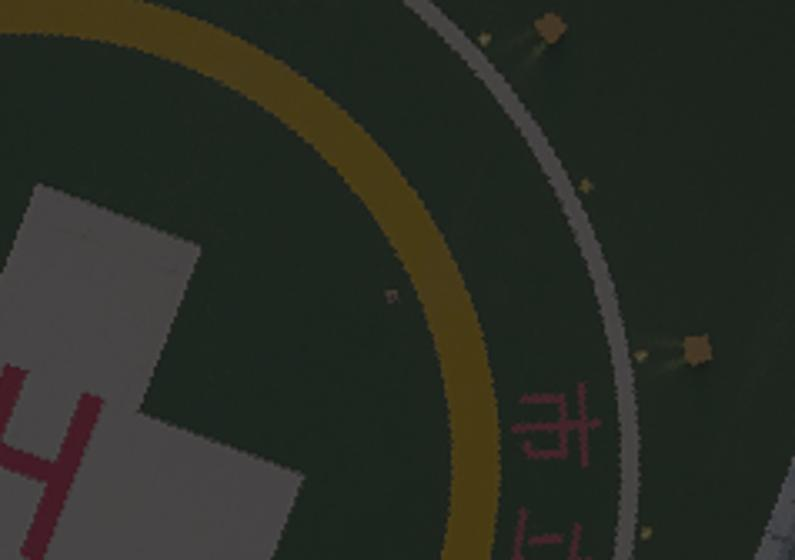Apron: (1, 1, 513, 555)
